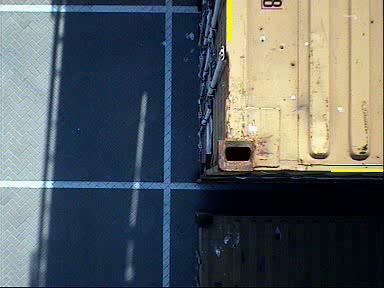groundmarker_2: (105, 74, 168, 110), (109, 202, 172, 237)
